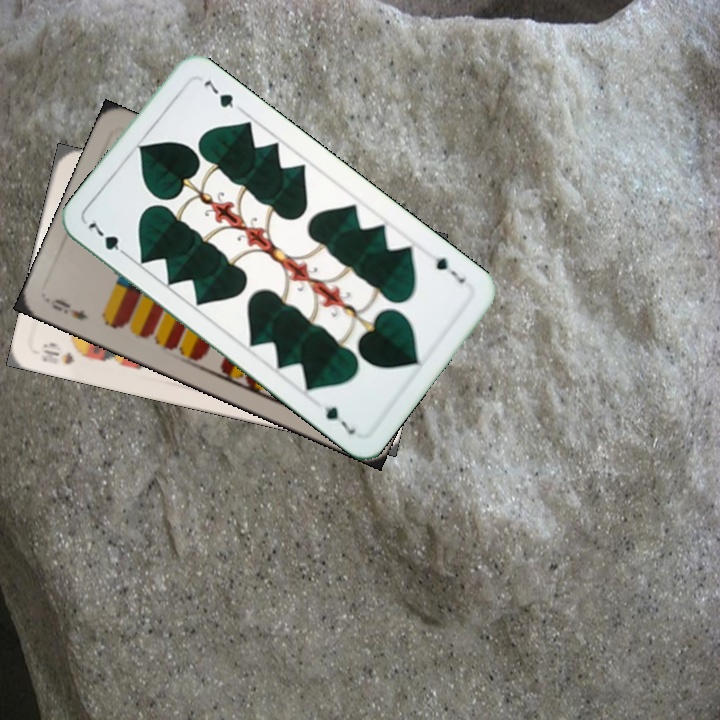E9: (44, 294, 91, 323)
G7: (83, 215, 132, 260), (431, 253, 468, 286)
S10: (37, 339, 94, 367)
